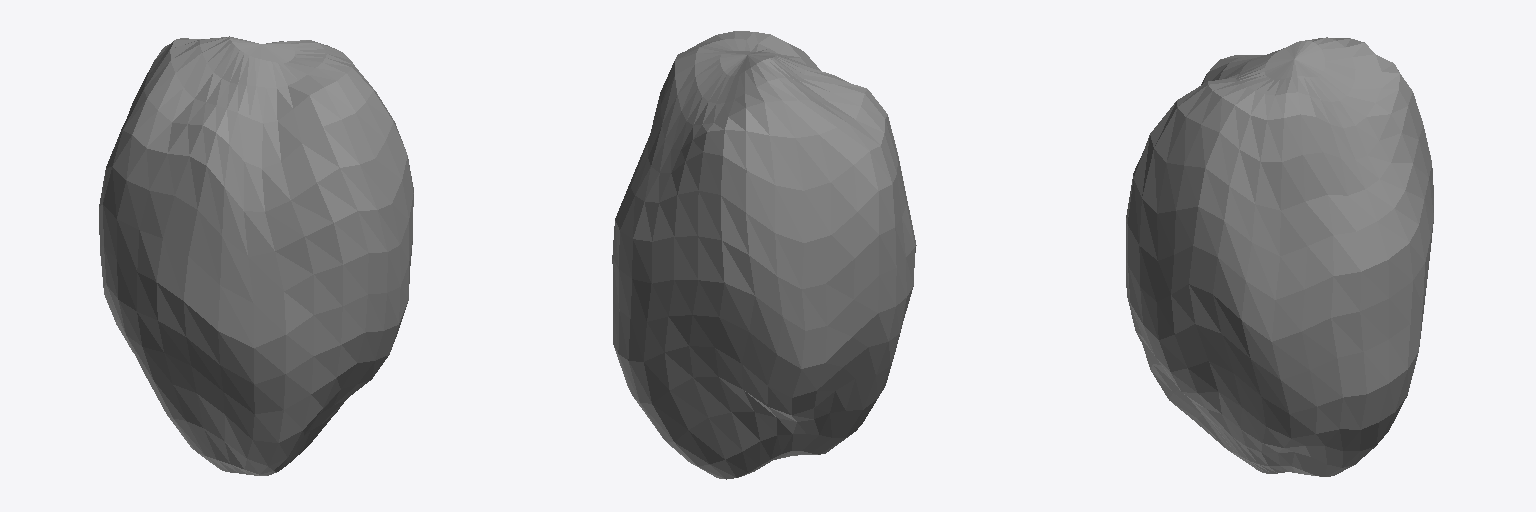
Rendered from Scrap.obj.
3 views of the same model, side by side, from view 1: azimuth 30°, elevation 25°; view 2: azimuth 150°, elevation 25°; view 3: azimuth 270°, elevation 25° (orthographic).
Parts seen in each view (by area): view 1: Sphere001; view 2: Sphere001; view 3: Sphere001.
Part boxes in pixels (x1,y1,x2,y2): Sphere001: (99, 36, 413, 475); Sphere001: (612, 31, 916, 479); Sphere001: (1126, 37, 1433, 476).
Bounding box in the file's own units: 8.53 × 12.78 × 8.53.